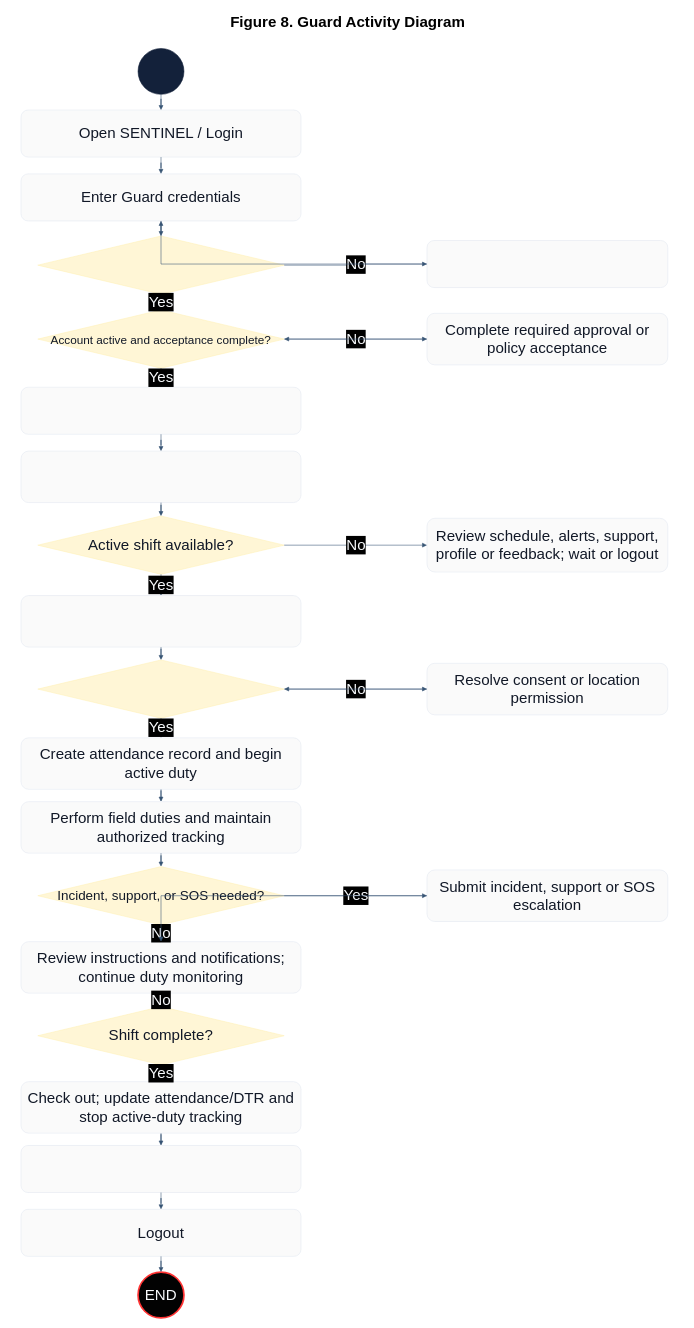
Some shapes in this 694 by 1328 pixel diagram are drawn without their labels. Each missing label, with the centre of its shape:
"Credentials valid?" belongs at [160,264].
"Location/device permission ready?" belongs at [160,688].
"Open Guard dashboard" belongs at [160,410].
"Review completed duty information" belongs at [160,1169].
"Review schedule, site, mission and notifications" belongs at [160,477].
"Review shift details; complete readiness and check-in" belongs at [160,621].
"Show login error" belongs at [547,264].
"START" belongs at [160,71].
